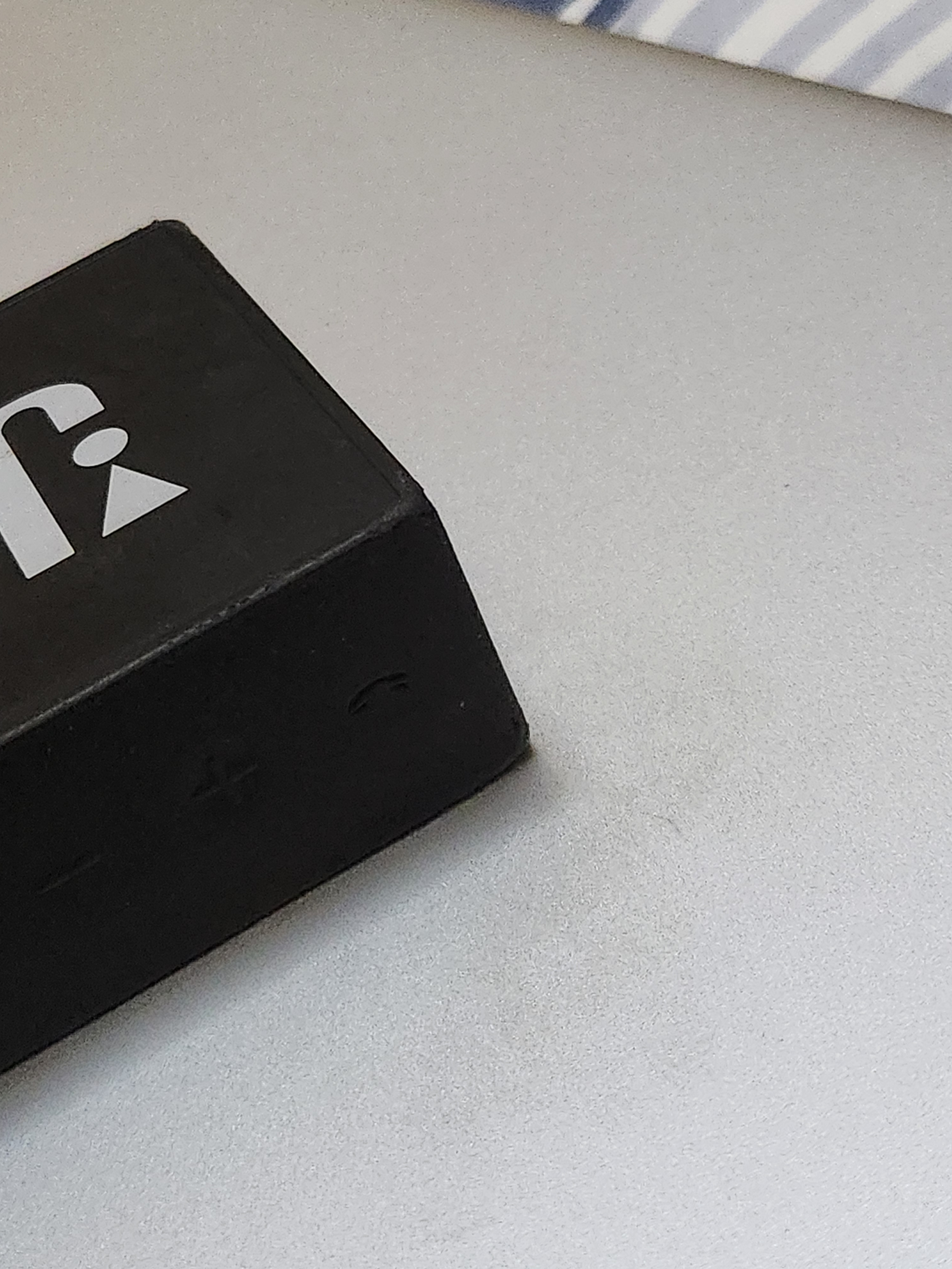speaker: (0, 216, 534, 1092)
